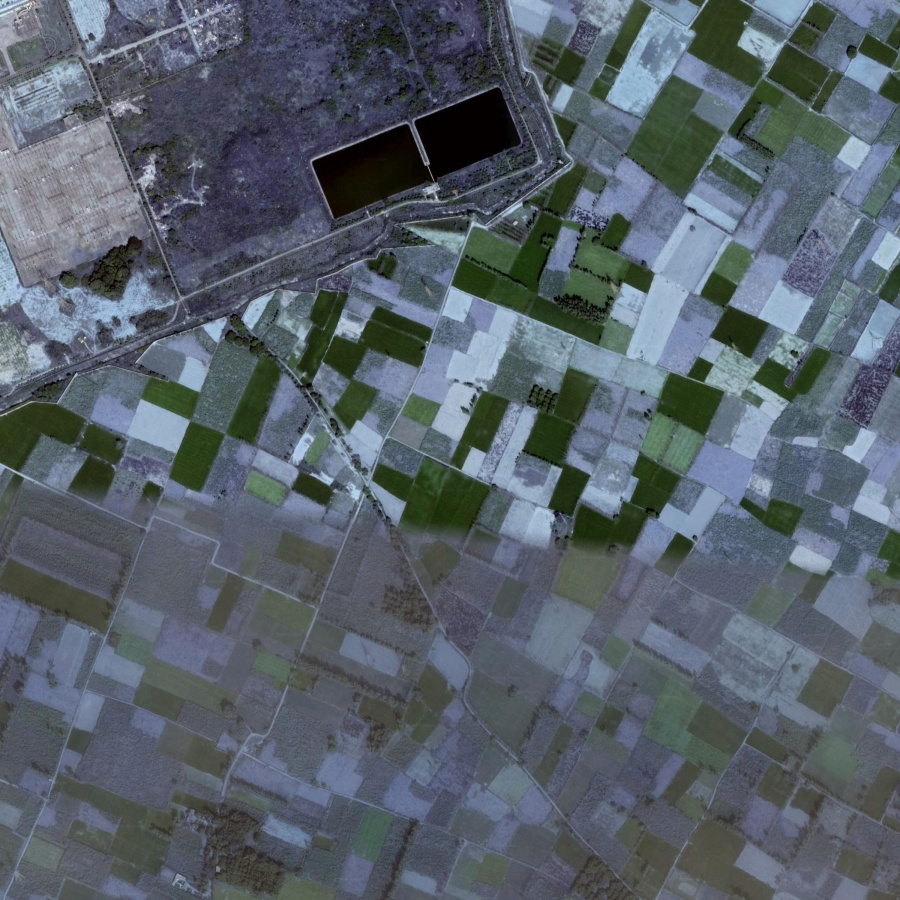PowerPlant: (291, 67, 532, 253)
